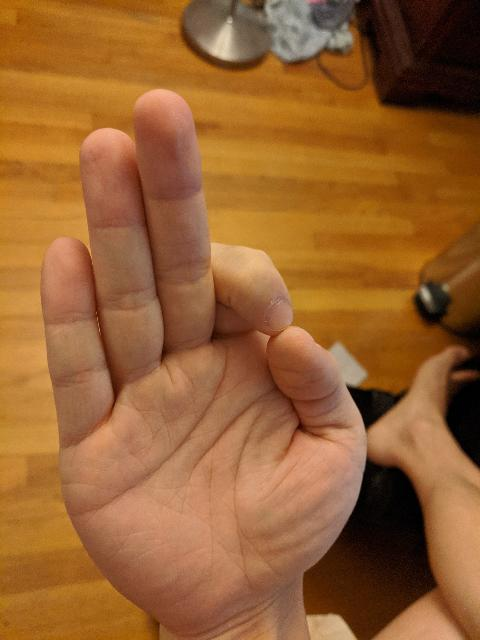F: (35, 82, 370, 640)
